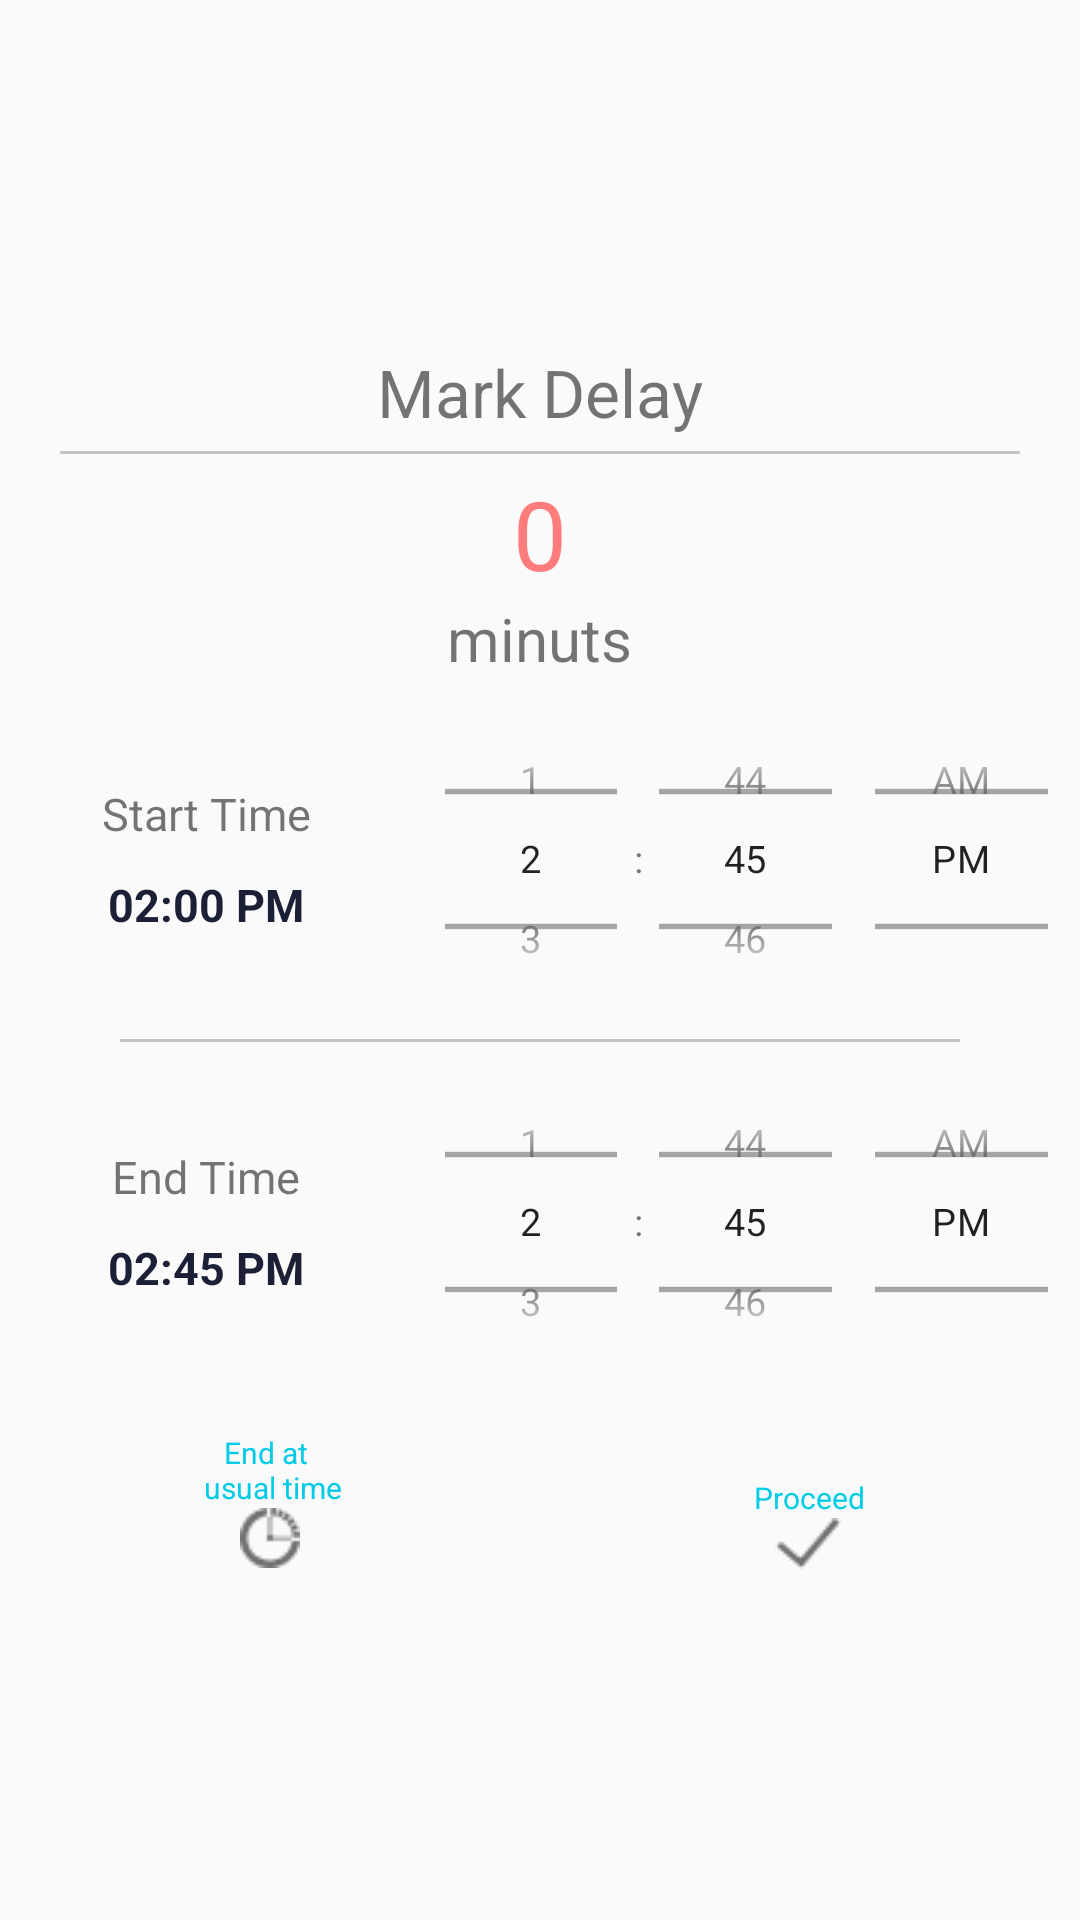

Locate icon controls on the screen. Image size 1080px x 1920px, boxes as (x1, y1, x2, y2).
tick mark: (777, 1518, 840, 1568)
watch: (240, 1508, 300, 1568)
